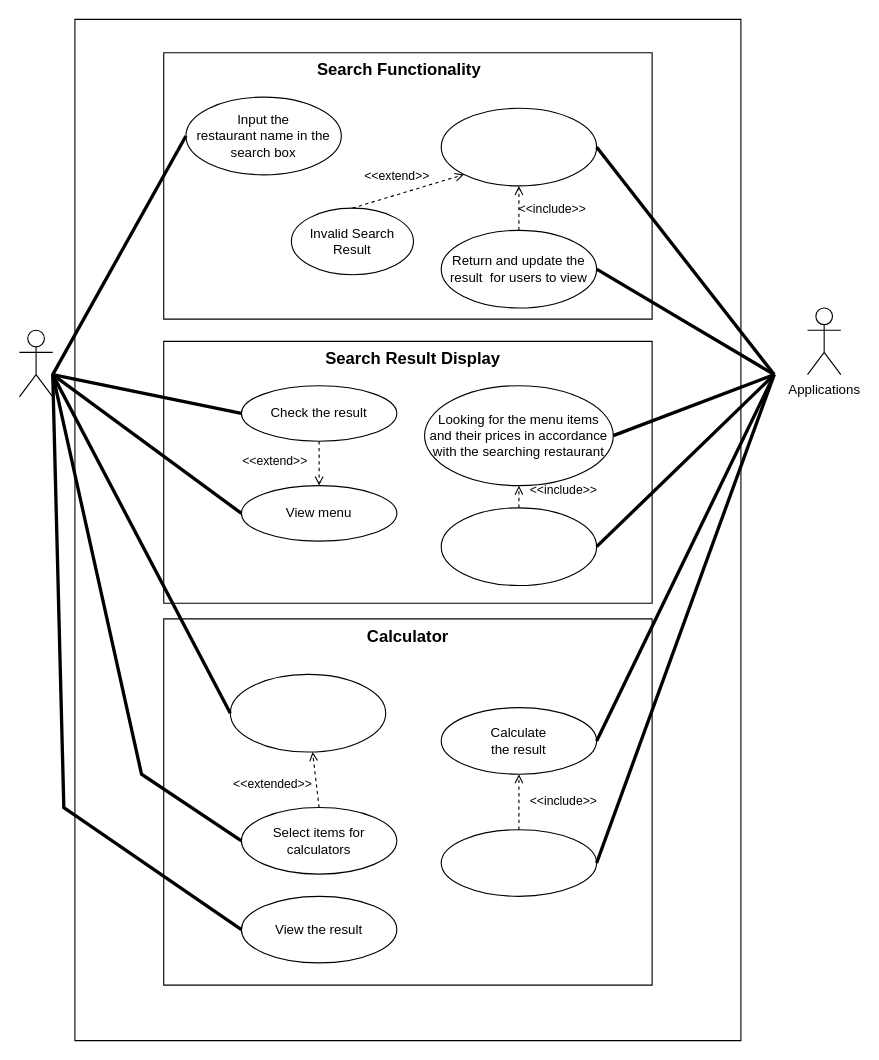
Image size: 879x1060. Some labels were removed from this diagram. Here are the shapes that lost their labels. From the top down, the centre of each, then its label:
(518,146): Looking for the result
(35,363): Users
(518,546): Update items for the respective restaurant
(307,712): View items
(518,862): Update the result
